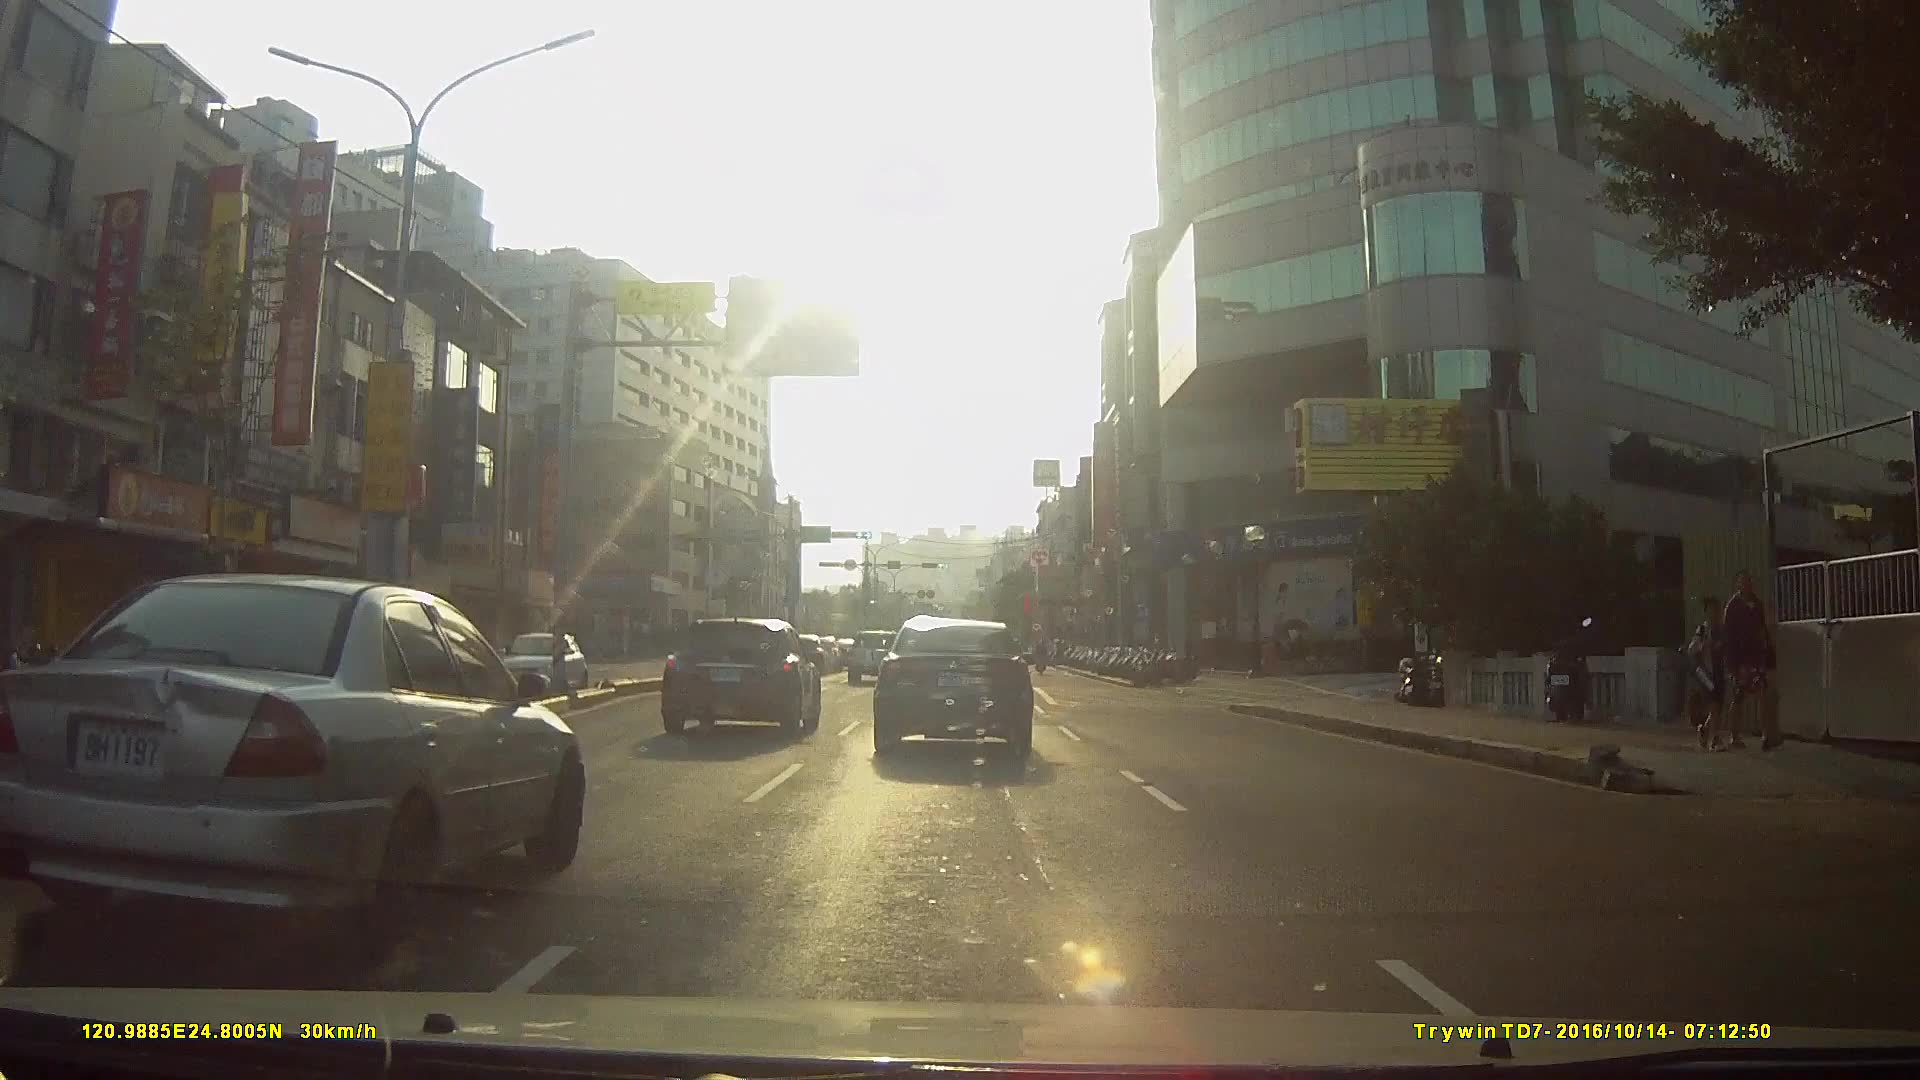pedestrian: (1713, 577, 1781, 757), (1685, 596, 1753, 760)
vehicle: (0, 570, 583, 952), (871, 617, 1034, 764), (657, 612, 821, 738), (490, 634, 591, 704), (844, 629, 904, 686)
